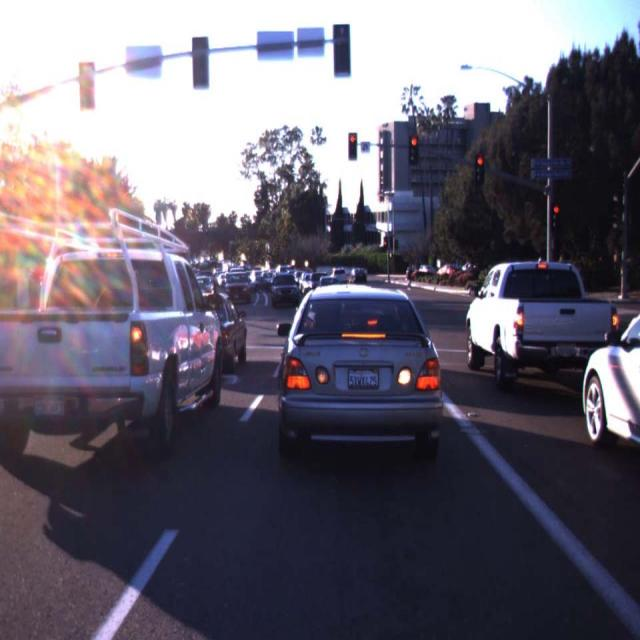kirmizi: (475, 156, 485, 184), (409, 135, 418, 165), (349, 132, 358, 160), (551, 204, 560, 232)
